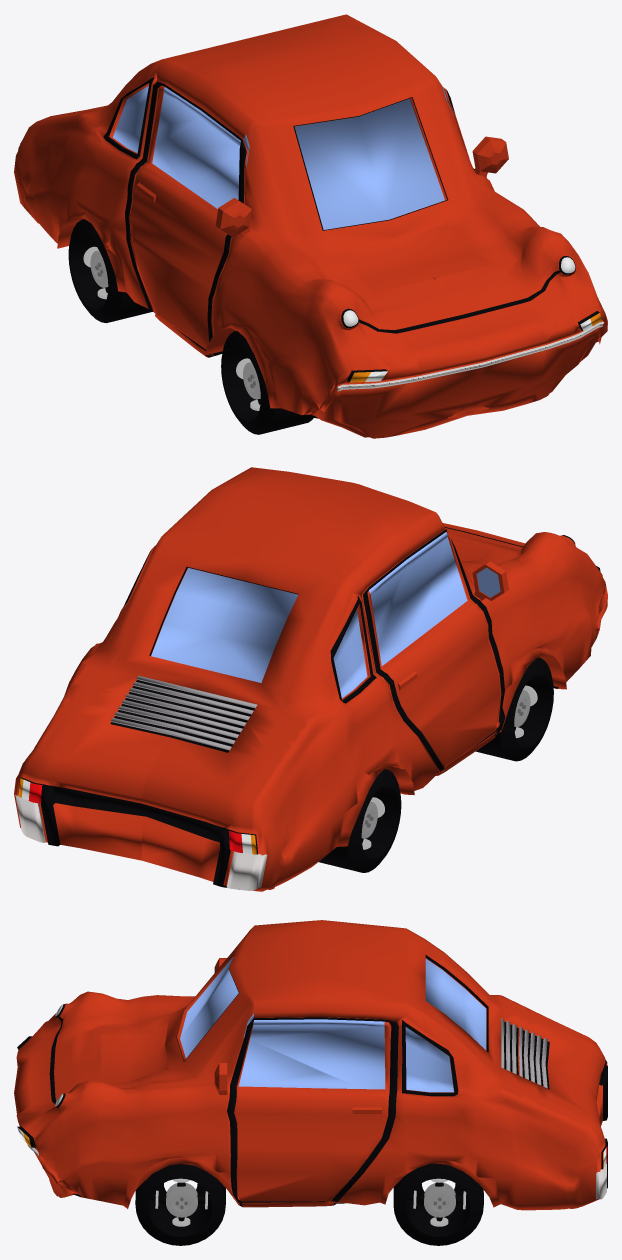
3 views of the same model, one above another, from view 1: azimuth 30°, elevation 25°; view 2: azimuth 150°, elevation 25°; view 3: azimuth 270°, elevation 25° (orthographic). The views are drawn at different scales.
Visible parts, largest first — view 1: Cube_Material.001_0, Cube_Material.002_0, Cube_Material_051_0; view 2: Cube_Material.001_0, Cube_Material.002_0, Cube_Material_051_0; view 3: Cube_Material.001_0, Cube_Material.002_0, Cube_Material_051_0, Cube_Material_049_0.
Boxes of the visible parts, x1=… form: Cube_Material.001_0: x1=14, y1=14, x2=607, y2=438; Cube_Material.002_0: x1=20, y1=77, x2=604, y2=434; Cube_Material_051_0: x1=90, y1=250, x2=260, y2=399; Cube_Material.001_0: x1=14, y1=467, x2=607, y2=891; Cube_Material.002_0: x1=15, y1=527, x2=602, y2=890; Cube_Material_051_0: x1=361, y1=690, x2=530, y2=838; Cube_Material.001_0: x1=14, y1=920, x2=605, y2=1210; Cube_Material.002_0: x1=17, y1=944, x2=607, y2=1245; Cube_Material_051_0: x1=166, y1=1182, x2=455, y2=1217; Cube_Material_049_0: x1=155, y1=1178, x2=466, y2=1226.
Bounding box in the file's own units: 12.09 × 10.83 × 24.61.
5 materials, 5 textured.
